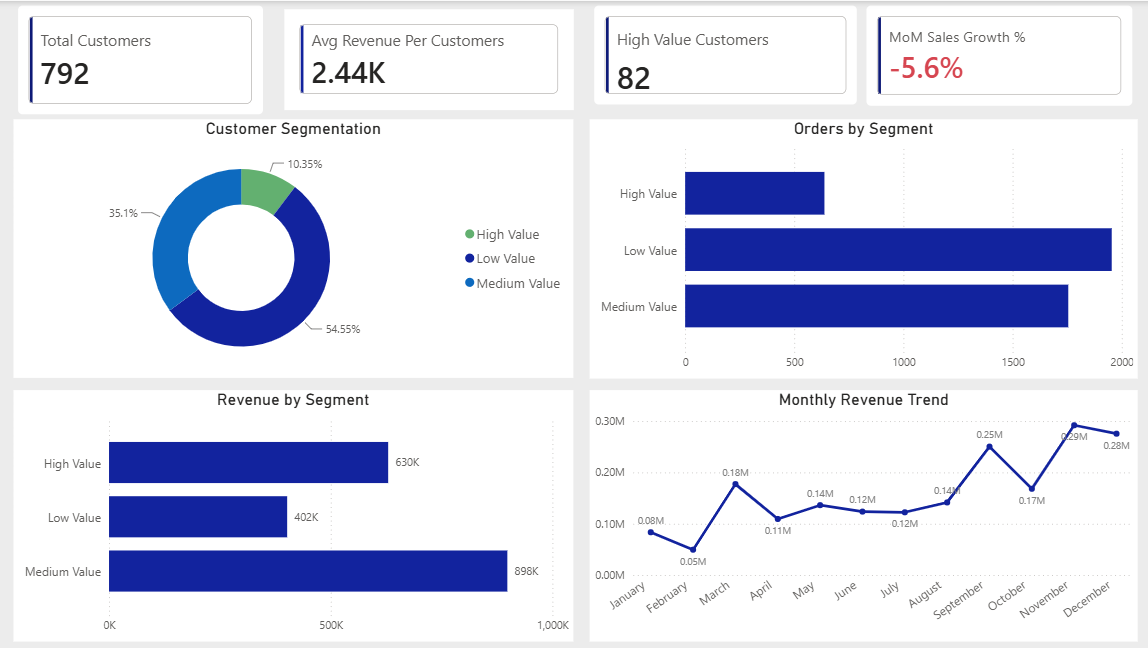

The dashboard page shown, as its layout file describes it:
{"tool":"powerbi","page":{"name":"Customer & Growth Insights ","canvas":[1280,720],"ordinal":2},"visuals":[{"type":"cardVisual","fields":{"Data":["public vw_customer_segments.Total Customers"]},"box":[18.3,0,282.5,131.3],"z":0},{"type":"cardVisual","fields":{"Data":["public vw_customer_segments.High Value Customers"]},"box":[658.2,0,302.4,120.6],"z":1000},{"type":"cardVisual","fields":{"Data":["public vw_monthly_performance.Sales Growth %"]},"box":[960.9,0,305.9,121.5],"z":2000},{"type":"donutChart","title":"Customer Segmentation ","fields":{"Category":["public vw_customer_segments.customer_segment"],"Y":["Count(public vw_customer_segments.customer_id)"]},"box":[18.3,131.3,621.5,287.1],"z":3000},{"type":"clusteredBarChart","title":"Revenue by Segment ","fields":{"Category":["public vw_customer_segments.customer_segment"],"Y":["Sum(public vw_customer_segments.total_spent)"]},"box":[18.2,431.6,621.5,279.3],"z":4000},{"type":"clusteredBarChart","title":" Orders by Segment","fields":{"Category":["public vw_customer_segments.customer_segment"],"Y":["Sum(public vw_customer_segments.total_orders)"]},"box":[657.8,131.3,608.9,287.7],"z":5000},{"type":"lineChart","title":"Monthly Revenue Trend ","fields":{"Category":["public vw_sales_data.order_date.Variation.Date Hierarchy.Month"],"Y":["public vw_sales_data.total sales"]},"box":[657.8,431.6,608.9,279.3],"z":6000},{"type":"cardVisual","fields":{"Data":["public vw_customer_segments.Avg Revenue Per Customers"]},"box":[318.4,9.8,321.2,111.7],"z":7001}]}

Visuals, with their boxes in screenshot pixels (x1, y1, x2, y2), scaled from the page's 1280x720 canvas onto the 1148x648 screenshot:
cardVisual - public vw_customer_segments.Total Customers: (left=16, top=0, right=270, bottom=118)
cardVisual - public vw_customer_segments.High Value Customers: (left=590, top=0, right=862, bottom=109)
cardVisual - public vw_monthly_performance.Sales Growth %: (left=862, top=0, right=1136, bottom=109)
"Customer Segmentation " donutChart: (left=16, top=118, right=574, bottom=377)
"Revenue by Segment " clusteredBarChart: (left=16, top=388, right=574, bottom=640)
" Orders by Segment" clusteredBarChart: (left=590, top=118, right=1136, bottom=377)
"Monthly Revenue Trend " lineChart: (left=590, top=388, right=1136, bottom=640)
cardVisual - public vw_customer_segments.Avg Revenue Per Customers: (left=286, top=9, right=574, bottom=109)
